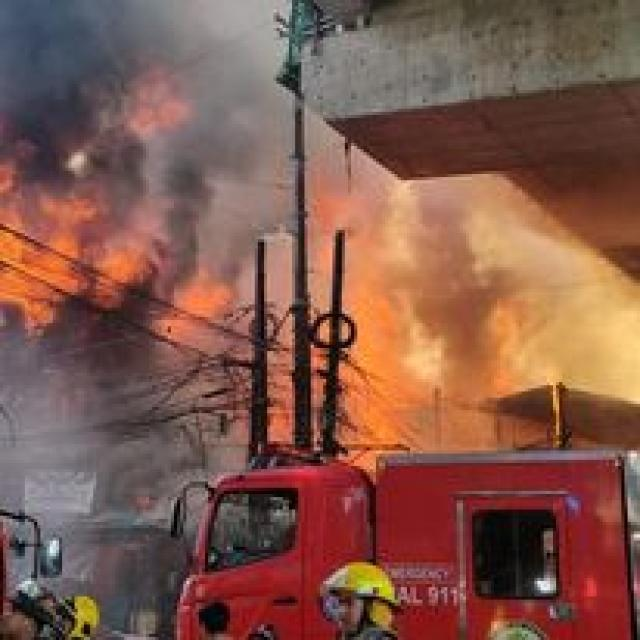Fire: (0, 149, 163, 328), (291, 314, 403, 464)
Smoke: (0, 0, 295, 180)
